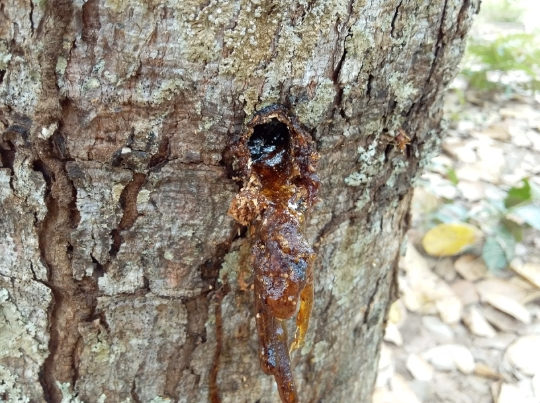Apate terebrans: (207, 188, 356, 398), (231, 106, 309, 175)
